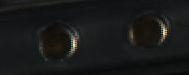joints: (34, 17, 80, 62), (123, 10, 170, 52)
